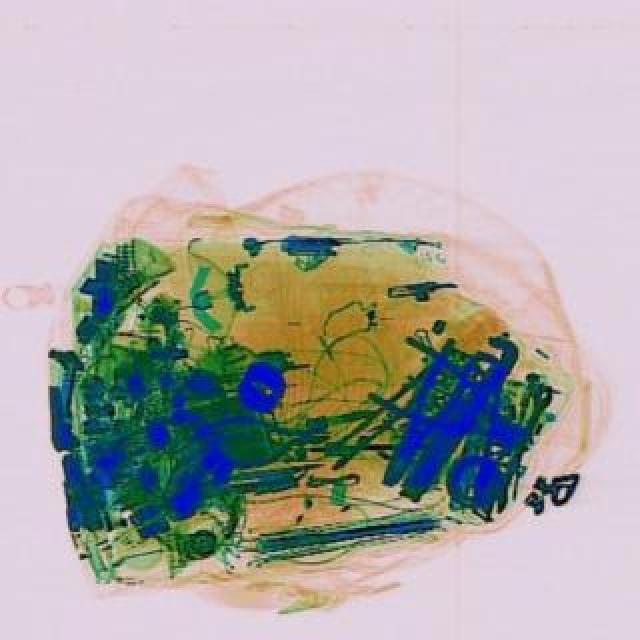scissors: (478, 378, 556, 518)
wrench: (364, 332, 488, 492), (190, 402, 330, 474)
